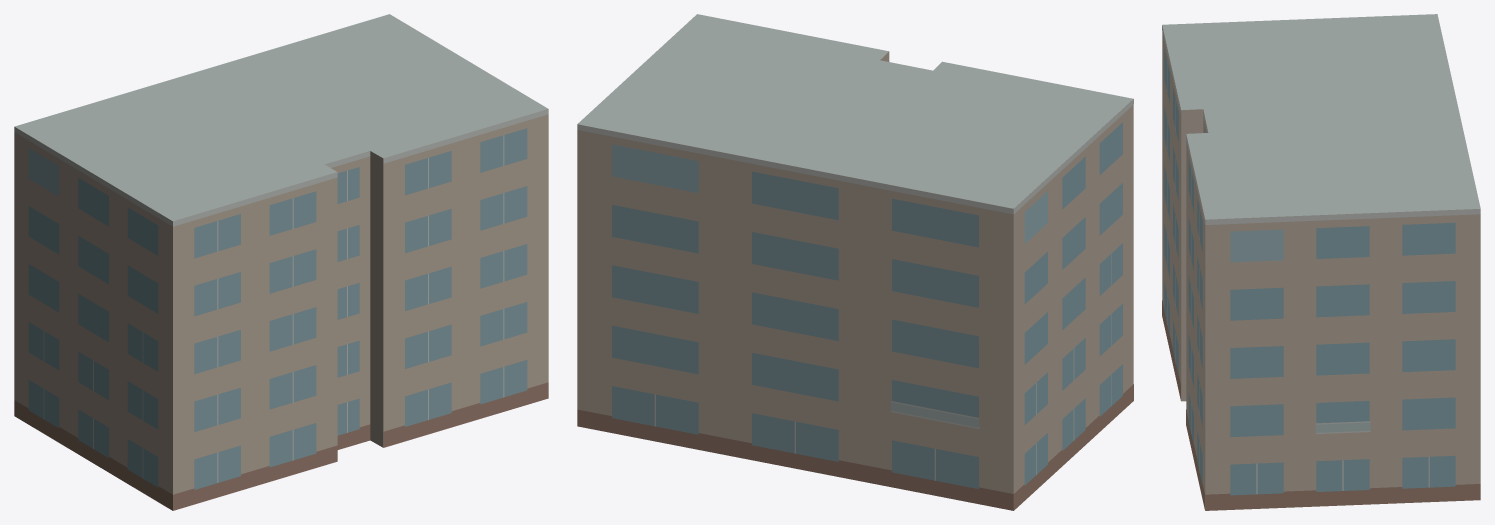
File: survey-upis-32633518.glb
The picture shows the model from 3 angles, left to right: view 1: azimuth 30°, elevation 25°; view 2: azimuth 150°, elevation 25°; view 3: azimuth 270°, elevation 25°; orthographic projection. The views are drawn at different scales.
Visible parts, largest first — view 1: survey-upis-32633518.tmp; view 2: survey-upis-32633518.tmp; view 3: survey-upis-32633518.tmp.
Boxes of the visible parts, <box> form: survey-upis-32633518.tmp: <box>14,14,548,510</box>; survey-upis-32633518.tmp: <box>577,14,1133,510</box>; survey-upis-32633518.tmp: <box>1162,14,1480,510</box>.
Size of the model in its own units: 19.69 by 13 by 12.9.
